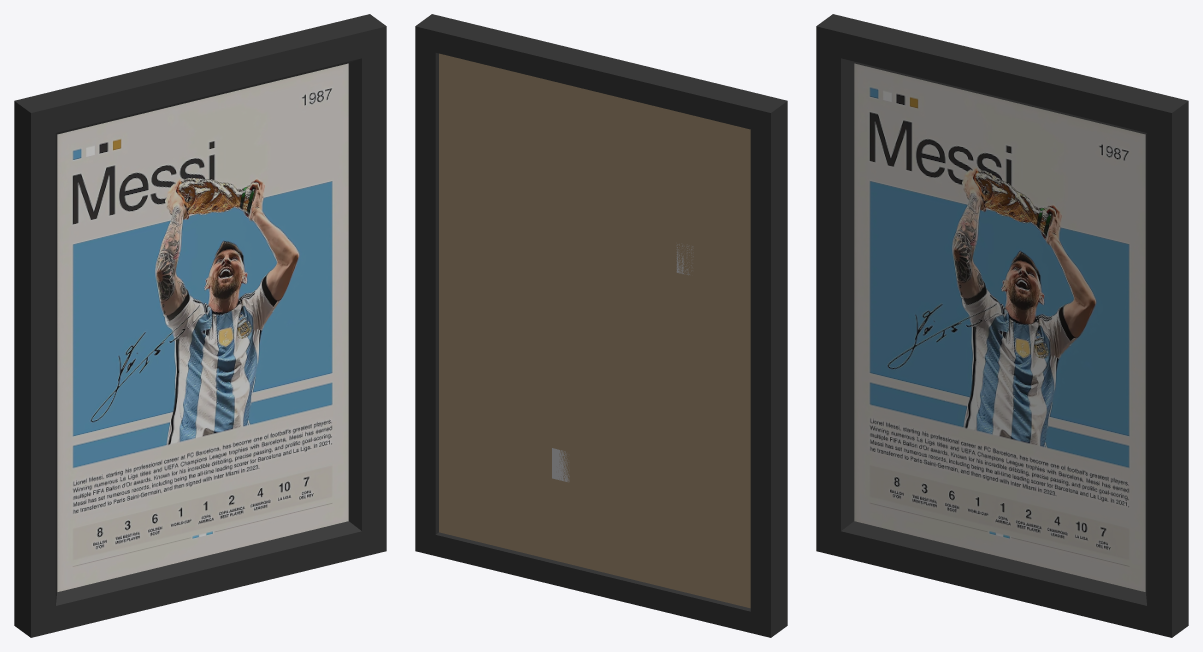
File: messi-1987-20x30.glb
3 views of the same model, side by side, from view 1: azimuth 30°, elevation 25°; view 2: azimuth 150°, elevation 25°; view 3: azimuth 330°, elevation 25° (orthographic).
Visible parts, largest first — view 1: LAWHA 20x30; view 2: LAWHA 20x30; view 3: LAWHA 20x30.
Part boxes in pixels (<box>): LAWHA 20x30: <box>14,14,386,637</box>; LAWHA 20x30: <box>415,14,787,637</box>; LAWHA 20x30: <box>816,14,1188,637</box>.
Bounding box in the file's own units: 0.244 × 0.344 × 0.02.
4 materials, 1 textured.
